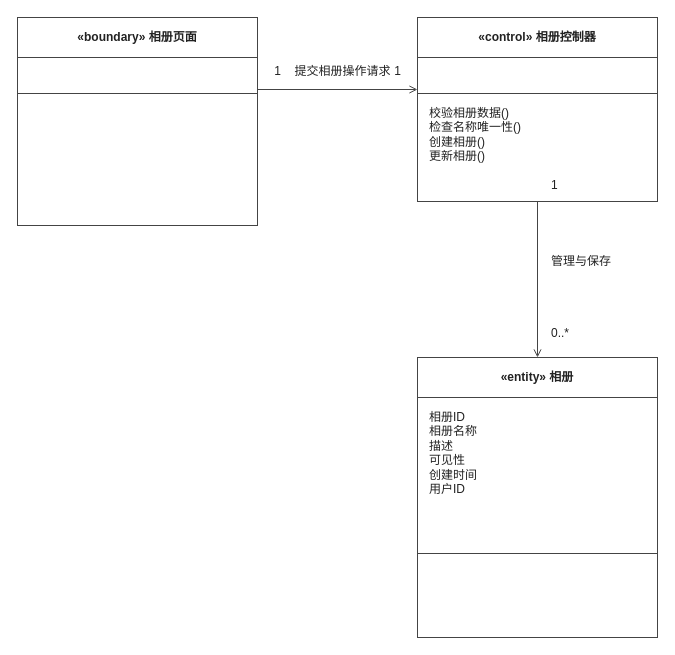
This 675x655 diagram has some shape labels left out. The centre of each missing label's shape, as x and y in pixels:
显示创建表单() 显示编辑表单() 读取相册数据() 提示错误信息() 刷新相册列表(): the point at 137,159
检查重名() 保存相册() 更新相册(): the point at 537,595
相册表单: the point at 137,75
